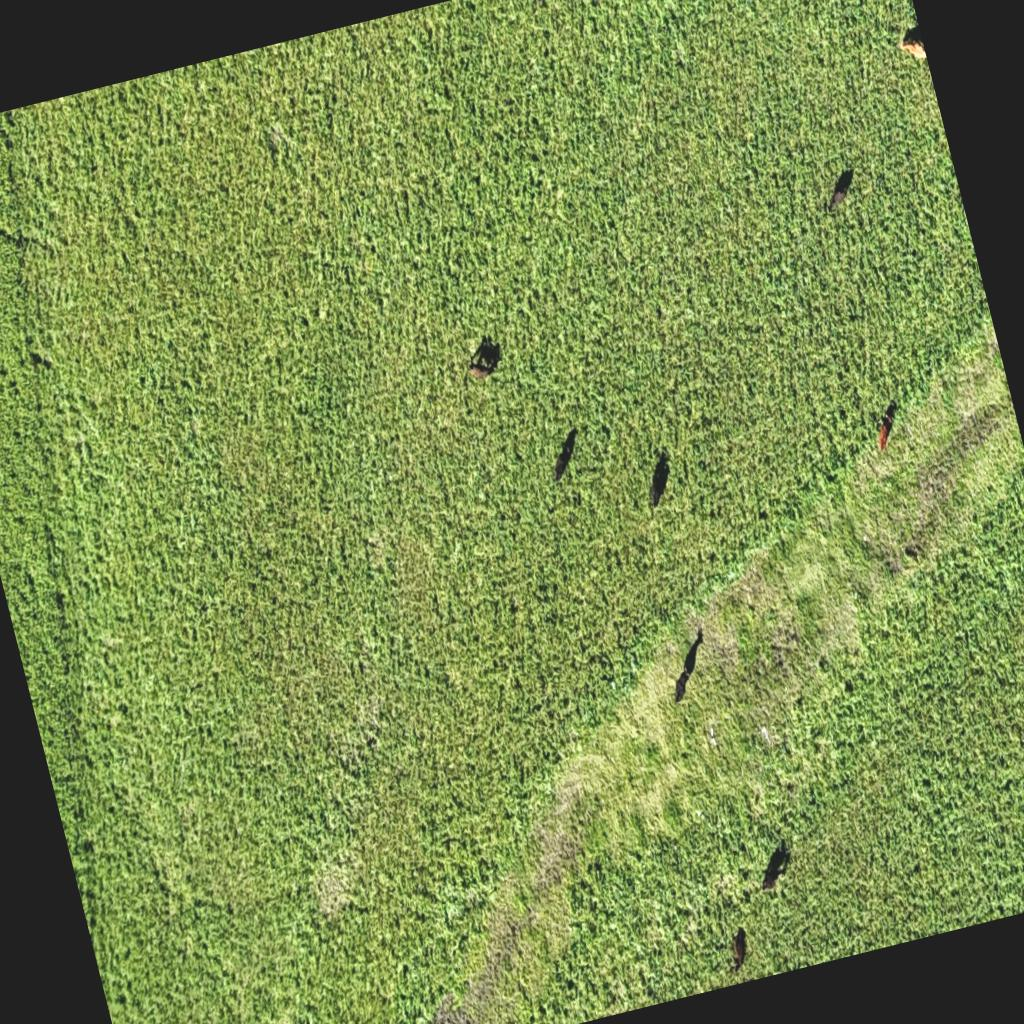cow: (658, 624, 718, 706), (750, 838, 798, 892), (544, 426, 588, 484), (460, 330, 507, 384), (639, 449, 680, 510), (867, 398, 907, 452), (819, 166, 861, 211), (722, 923, 755, 973), (894, 22, 926, 66), (528, 0, 570, 8)
